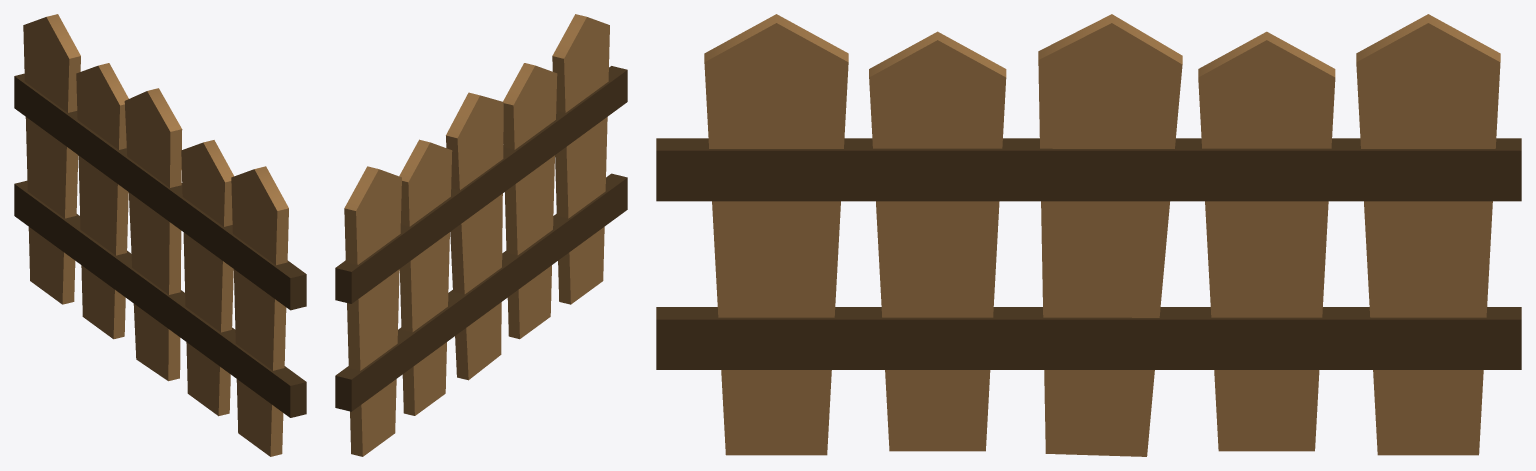
The model's file is fence2.fbx.
3 renders of one model, left to right at view 1: azimuth 30°, elevation 25°; view 2: azimuth 150°, elevation 25°; view 3: azimuth 270°, elevation 25°, orthographic. The views are drawn at different scales.
Parts seen in each view (by area): view 1: pCube15, pCube21, pCube20, pCube18, pCube16, pCube19, pCube17; view 2: pCube15, pCube21, pCube16, pCube20, pCube18, pCube19, pCube17; view 3: pCube15, pCube21, pCube20, pCube16, pCube18, pCube17, pCube19.
Part boxes in pixels (x1,y1,x2,y2): pCube15: [14, 180, 306, 417]; pCube21: [14, 73, 306, 310]; pCube20: [231, 166, 288, 456]; pCube18: [124, 88, 182, 381]; pCube16: [23, 14, 80, 304]; pCube19: [181, 140, 233, 416]; pCube17: [76, 63, 128, 339]; pCube15: [335, 173, 627, 411]; pCube21: [335, 66, 627, 303]; pCube16: [344, 166, 401, 456]; pCube20: [552, 14, 609, 304]; pCube18: [446, 92, 503, 380]; pCube19: [503, 63, 557, 339]; pCube17: [399, 139, 452, 415]; pCube15: [656, 307, 1521, 369]; pCube21: [656, 138, 1521, 201]; pCube20: [704, 14, 848, 455]; pCube16: [1356, 14, 1500, 455]; pCube18: [1038, 14, 1182, 456]; pCube17: [1198, 31, 1335, 451]; pCube19: [869, 31, 1006, 451].
Bounding box in the file's own units: 0.1707 × 2.78 × 5.02.
